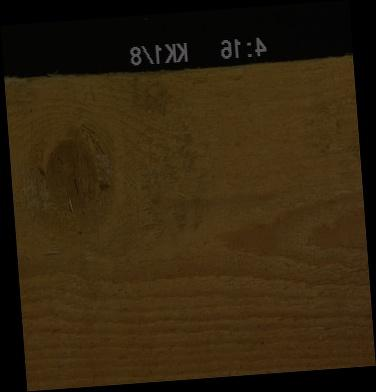sound_knot: (31, 122, 114, 218)
